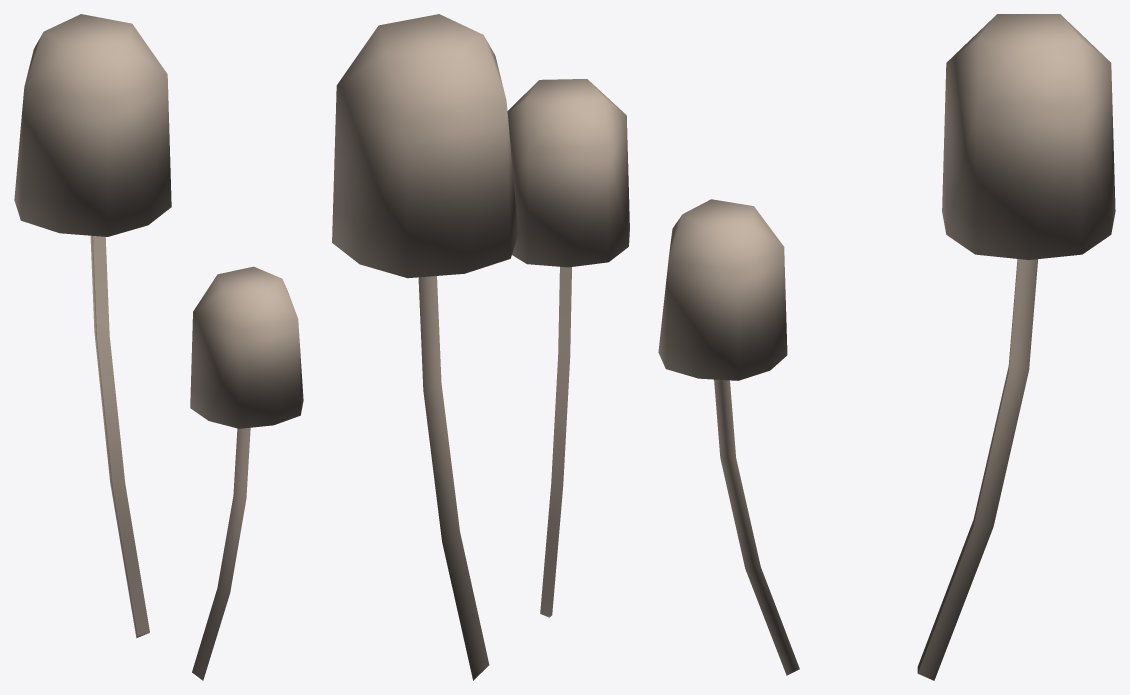
The model's file is Mushroom2.FBX.
3 views of the same model, side by side, from view 1: azimuth 30°, elevation 25°; view 2: azimuth 150°, elevation 25°; view 3: azimuth 270°, elevation 25° (orthographic). The views are drawn at different scales.
Parts seen in each view (by area): view 1: Mushroom2; view 2: Mushroom2; view 3: Mushroom2.
Boxes of the visible parts, x1,y1,x2,y2 form: Mushroom2: (14,14,303,680); Mushroom2: (332,14,629,680); Mushroom2: (658,14,1115,680).
Size of the model in its own units: 4.52 by 17.72 by 11.35.
